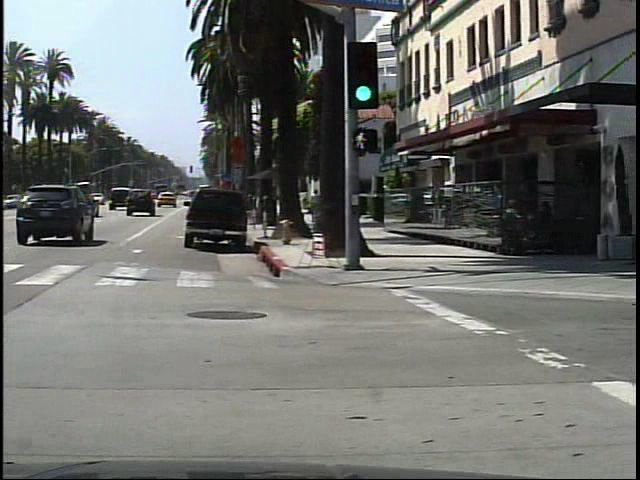person: (313, 185, 326, 227)
